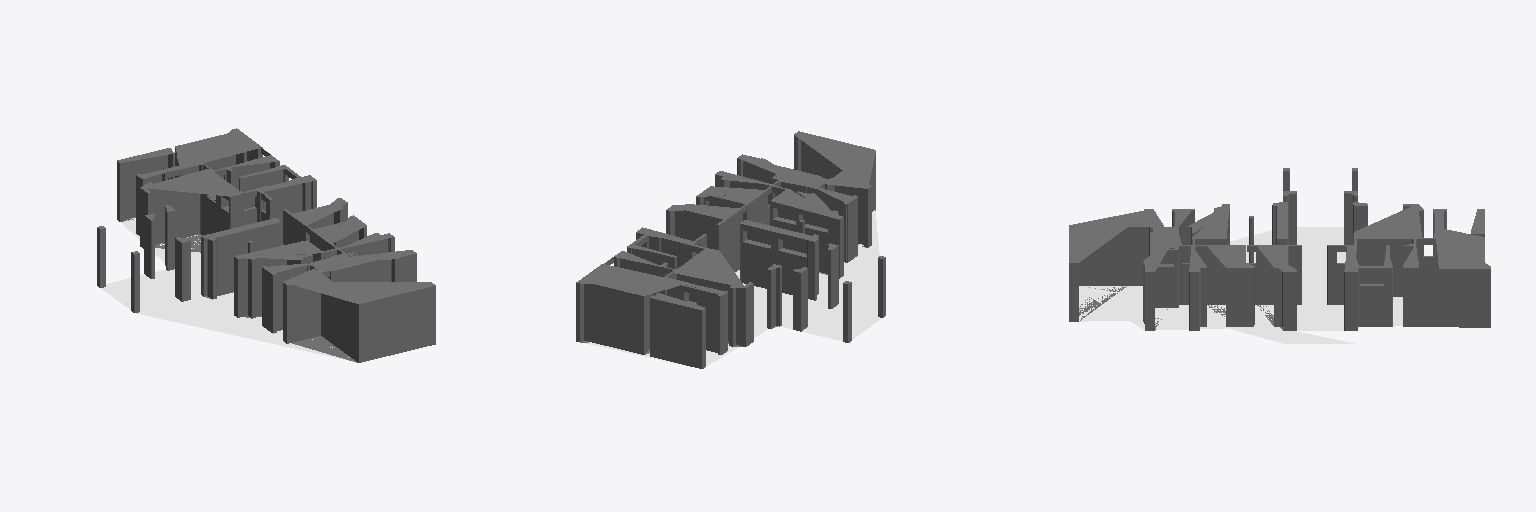
The picture shows the model from 3 angles: view 1: azimuth 30°, elevation 25°; view 2: azimuth 150°, elevation 25°; view 3: azimuth 270°, elevation 25°; orthographic projection.
Parts seen in each view (by area): view 1: Floor, Box13Wall328, VertWalls27, Box17Wall451, Box13Wall327, Box14Wall351, VertWalls17, Box13Wall325, VertWalls29, Box7Wall172, VertWalls31, Box1Wall23 (+12 smaller); view 2: Floor, Box8Wall224, Box10Wall274, VertWalls27, VertWalls17, VertWalls29, Box3Wall75, Box57Wall229, Box3Wall80, VertWalls31, Box11Wall289, VertWalls15 (+6 smaller); view 3: Floor, Box13Wall335, Box8Wall220, VertWalls27, VertWalls17, Box14Wall372, Box4Wall97, VertWalls29, Box32Wall130, Box4Wall82, Box6Wall149, Box3Wall62 (+12 smaller).
Part boxes in pixels (left/top/right/bottom): Floor: left=101, top=218, right=348, bottom=360; Box13Wall328: left=359, top=286, right=435, bottom=362; VertWalls27: left=283, top=269, right=435, bottom=303; Box17Wall451: left=215, top=222, right=281, bottom=295; Box13Wall327: left=321, top=293, right=358, bottom=362; Box14Wall351: left=147, top=188, right=199, bottom=244; VertWalls17: left=175, top=128, right=261, bottom=168; Box13Wall325: left=287, top=284, right=320, bottom=343; VertWalls29: left=140, top=168, right=242, bottom=196; Box7Wall172: left=331, top=260, right=390, bottom=281; VertWalls31: left=234, top=240, right=323, bottom=259; Box1Wall23: left=269, top=184, right=301, bottom=242; Floor: left=585, top=210, right=881, bottom=367; Box8Wall224: left=584, top=284, right=643, bottom=354; Box10Wall274: left=650, top=298, right=701, bottom=368; VertWalls27: left=794, top=131, right=875, bottom=188; VertWalls17: left=576, top=264, right=687, bottom=295; VertWalls29: left=671, top=248, right=752, bottom=287; Box3Wall75: left=675, top=210, right=722, bottom=253; Box57Wall229: left=742, top=242, right=770, bottom=288; Box3Wall80: left=719, top=209, right=742, bottom=271; VertWalls31: left=771, top=189, right=842, bottom=219; Box11Wall289: left=697, top=289, right=717, bottom=352; VertWalls15: left=738, top=154, right=821, bottom=186; Floor: left=1079, top=227, right=1402, bottom=343; Box13Wall335: left=1079, top=227, right=1148, bottom=285; Box8Wall220: left=1439, top=269, right=1490, bottom=327; VertWalls27: left=1069, top=209, right=1163, bottom=262; VertWalls17: left=1434, top=228, right=1490, bottom=268; Box14Wall372: left=1357, top=239, right=1411, bottom=296; Box4Wall97: left=1226, top=268, right=1253, bottom=326; VertWalls29: left=1354, top=204, right=1423, bottom=239; Box32Wall130: left=1360, top=286, right=1383, bottom=326; Box4Wall82: left=1205, top=246, right=1225, bottom=304; Box6Wall149: left=1403, top=268, right=1418, bottom=326; Box3Wall62: left=1256, top=246, right=1273, bottom=304.
Size of the model in its own units: 10.66 by 2.5 by 16.24.